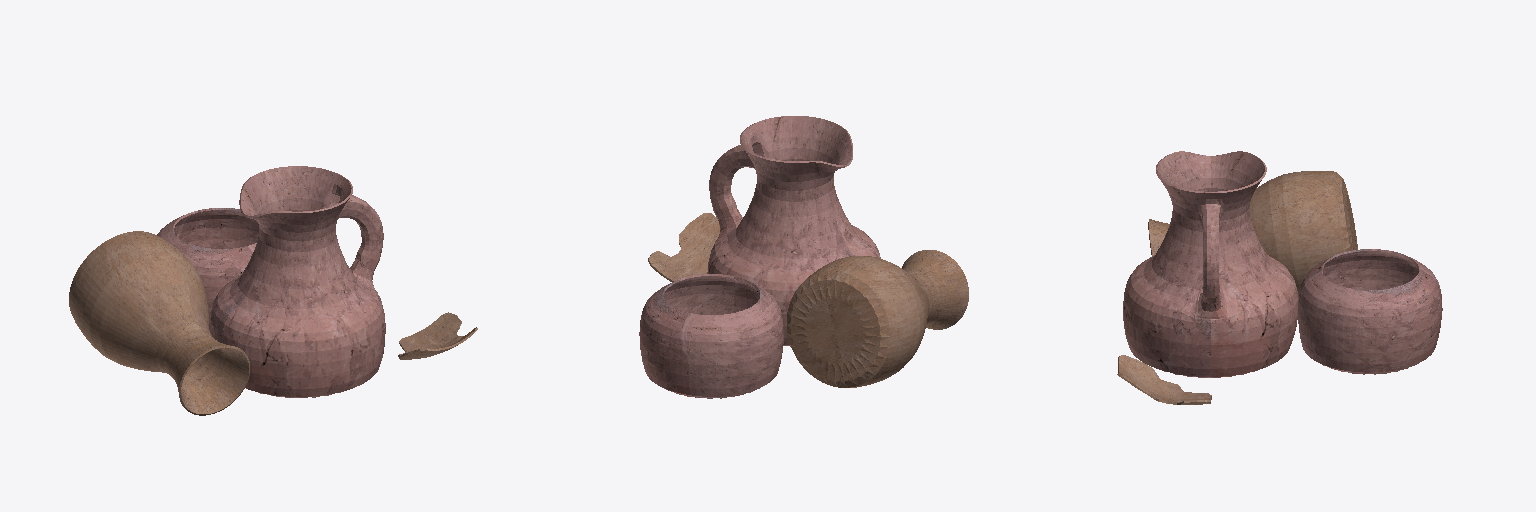
3 renders of one model, left to right at view 1: azimuth 30°, elevation 25°; view 2: azimuth 150°, elevation 25°; view 3: azimuth 270°, elevation 25°, orthographic.
Parts seen in each view (by area): view 1: Circle; view 2: Circle; view 3: Circle.
Boxes of the visible parts, x1,y1,x2,y2 form: Circle: [69, 166, 477, 415]; Circle: [639, 116, 968, 398]; Circle: [1117, 151, 1442, 404].
Bounding box in the file's own units: 4.77 × 2.6 × 4.22.
Materials: 1 (1 with a texture image).